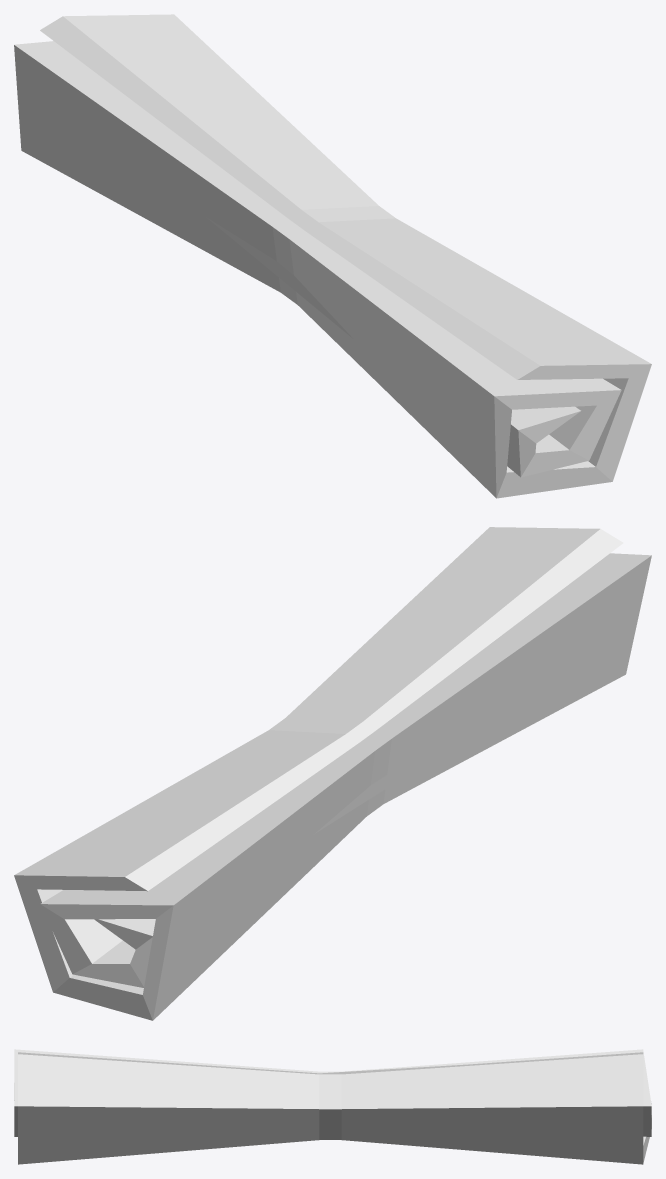
Rendered from paper04.obj.
The picture shows the model from 3 angles, top to bottom: view 1: azimuth 30°, elevation 25°; view 2: azimuth 150°, elevation 25°; view 3: azimuth 270°, elevation 25°; orthographic projection. The views are drawn at different scales.
Visible parts, largest first — view 1: Cube_Cube.001; view 2: Cube_Cube.001; view 3: Cube_Cube.001.
Part boxes in pixels (<box>): Cube_Cube.001: <box>14,14,651,498</box>; Cube_Cube.001: <box>14,527,651,1020</box>; Cube_Cube.001: <box>14,1049,651,1164</box>.
Size of the model in its own units: 0.0468 by 0.0373 by 0.2465.
